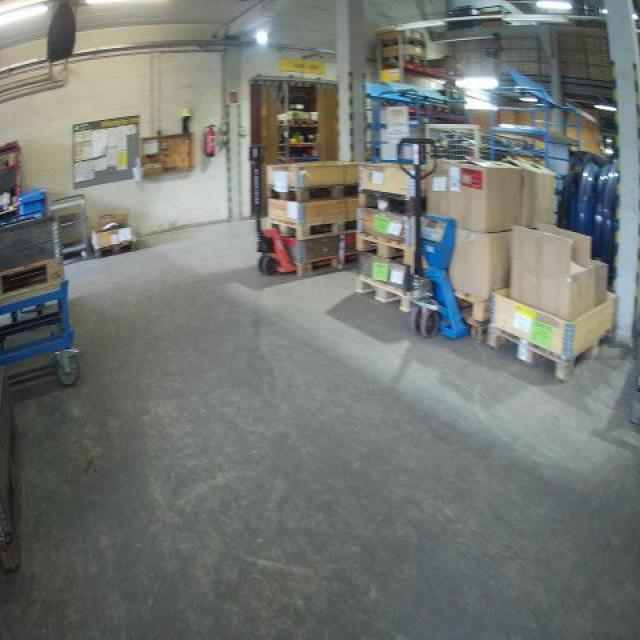pallet: (487, 323, 614, 383), (0, 255, 65, 309), (355, 272, 413, 315), (355, 229, 413, 269), (358, 185, 424, 220), (266, 181, 358, 205), (268, 218, 358, 242), (295, 249, 362, 280), (451, 289, 491, 323), (94, 237, 140, 262), (379, 54, 427, 69), (380, 38, 424, 50)
pallet_truck: (392, 132, 470, 343), (240, 133, 343, 277)
stillage: (423, 114, 502, 168)
